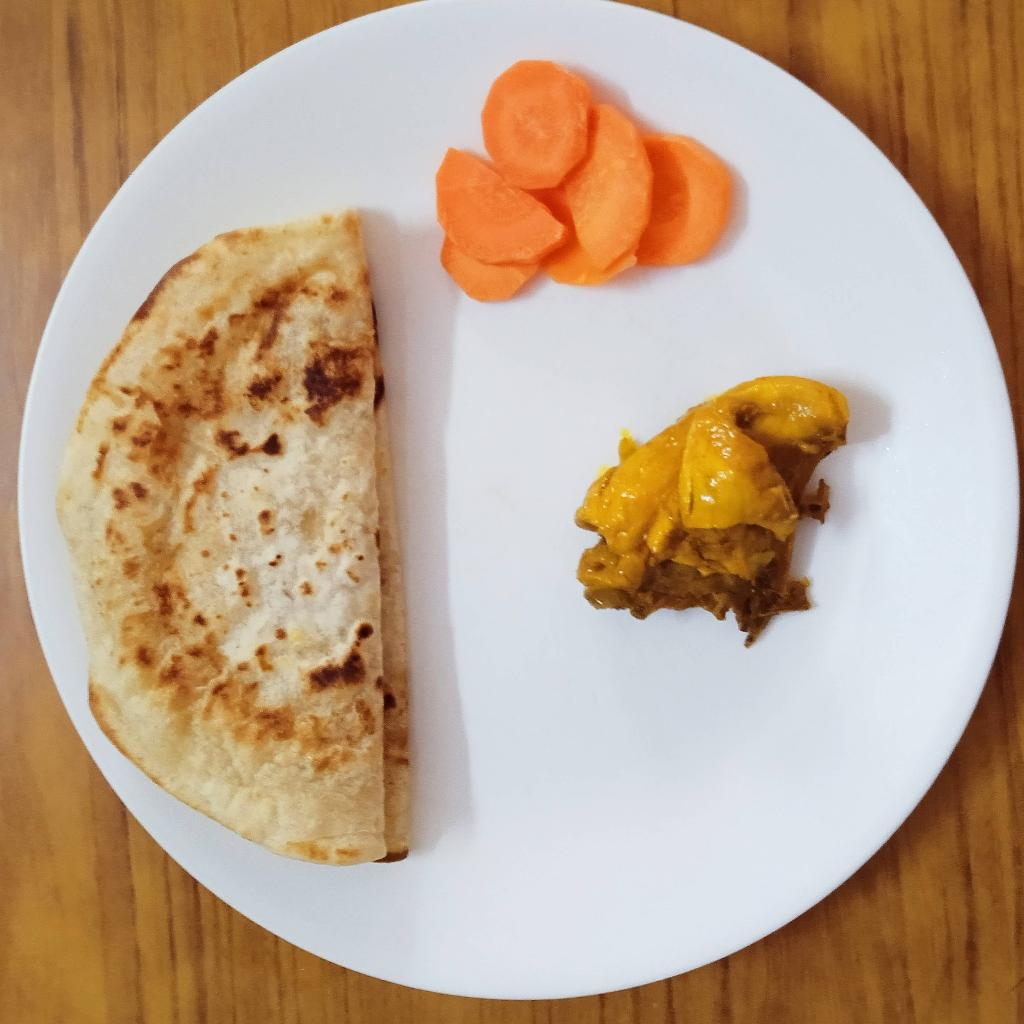carrot: (432, 61, 725, 303)
chicken: (578, 373, 856, 643)
ruti: (52, 206, 407, 865)
